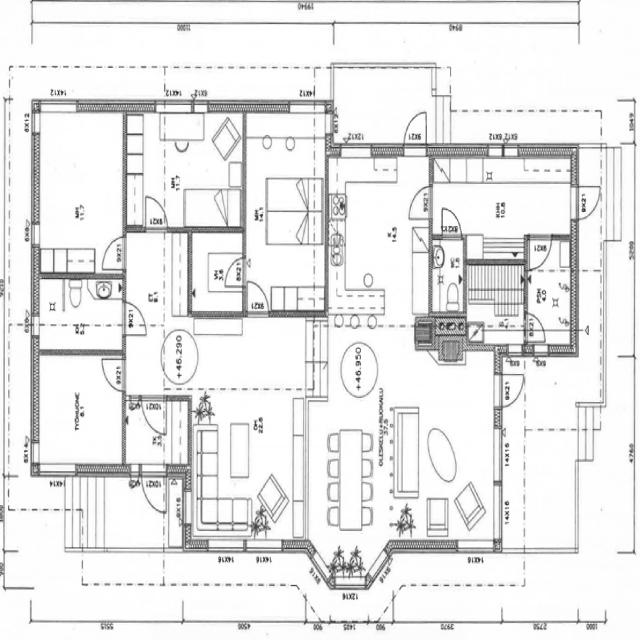door: (139, 460, 167, 515), (138, 391, 168, 437), (99, 229, 130, 272), (401, 105, 431, 148), (121, 297, 151, 339), (98, 351, 127, 394), (141, 190, 170, 232), (572, 182, 602, 221), (406, 182, 434, 223), (244, 277, 272, 316), (498, 369, 526, 408), (526, 232, 553, 271), (438, 203, 464, 241), (222, 253, 247, 291), (524, 308, 547, 343)
window: (307, 546, 335, 589), (366, 546, 392, 590), (203, 535, 250, 559), (36, 93, 80, 116), (39, 458, 81, 481), (338, 138, 376, 160), (455, 536, 496, 556), (485, 136, 515, 161), (328, 615, 368, 633), (26, 309, 42, 341), (28, 219, 43, 249)
zone: (188, 382, 310, 547), (346, 405, 487, 547), (324, 147, 431, 318), (242, 111, 326, 316), (33, 105, 127, 279), (127, 104, 243, 229), (430, 150, 570, 242), (32, 348, 124, 470), (36, 276, 126, 350), (466, 243, 526, 342), (524, 238, 574, 350), (187, 229, 244, 318), (430, 234, 466, 315)
